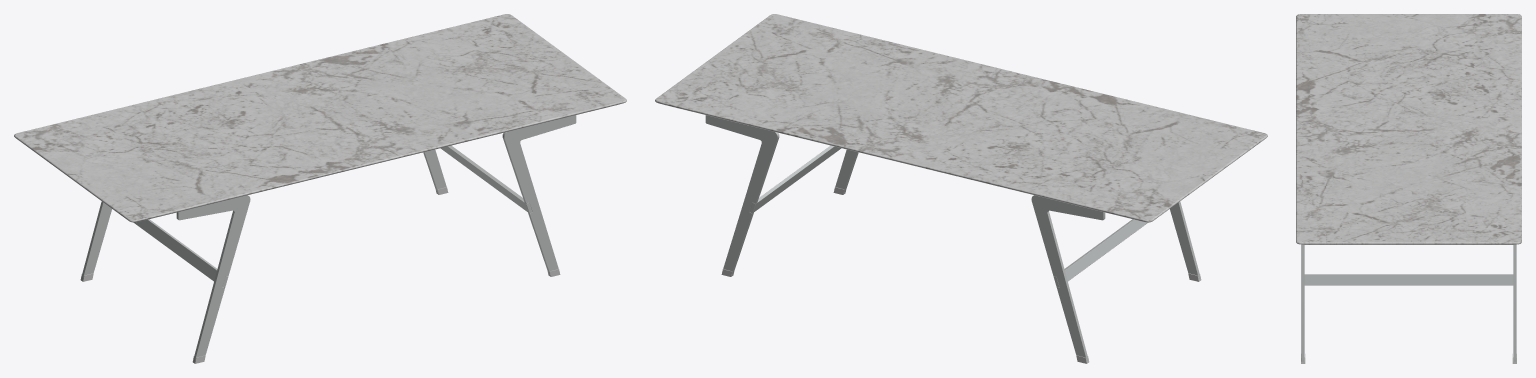
File: soffio.gltf
The picture shows the model from 3 angles, left to right: view 1: azimuth 30°, elevation 25°; view 2: azimuth 150°, elevation 25°; view 3: azimuth 270°, elevation 25°; orthographic projection. The views are drawn at different scales.
Visible parts, largest first — view 1: soffio; view 2: soffio; view 3: soffio.
Part boxes in pixels (bbox=[...]): soffio: bbox=[14, 14, 626, 363]; soffio: bbox=[655, 14, 1267, 363]; soffio: bbox=[1296, 14, 1521, 363].
Bounding box in the file's own units: 2.4 × 0.74 × 1.
1 material, 1 textured.
